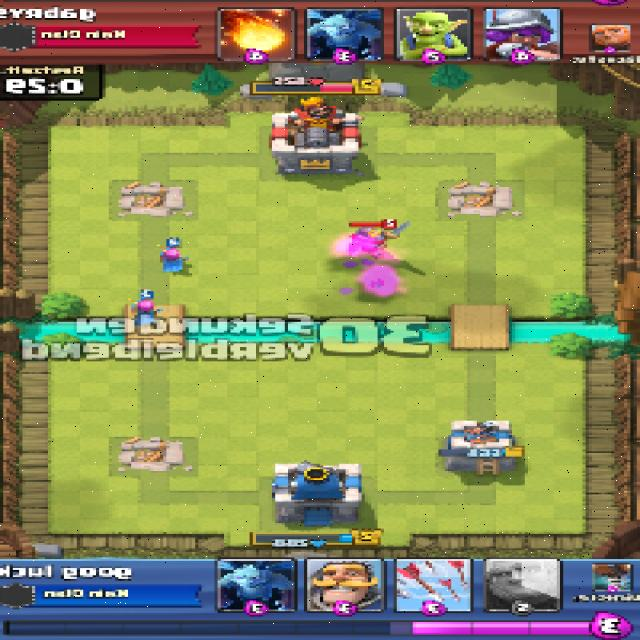Enemy-Knight: (346, 221, 411, 259)
Player-Archer: (125, 297, 160, 324), (160, 246, 191, 272)
